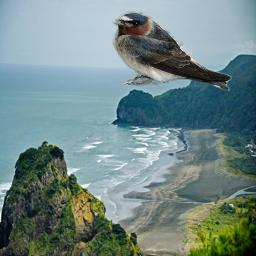Swallow: (110, 11, 232, 91)
